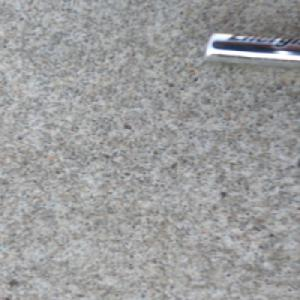Battery: (198, 31, 300, 70)
